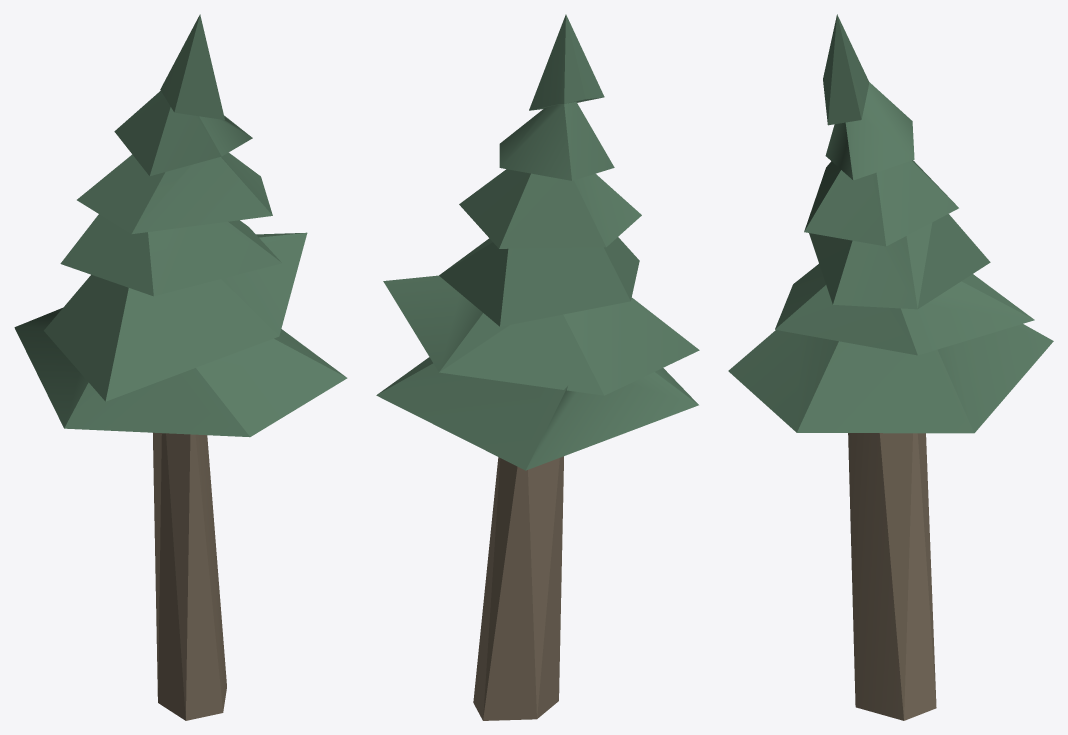
The model's file is Vegetation_Tree_Alpine_04.fbx.
3 views of the same model, side by side, from view 1: azimuth 30°, elevation 25°; view 2: azimuth 150°, elevation 25°; view 3: azimuth 270°, elevation 25° (orthographic). The views are drawn at different scales.
Parts seen in each view (by area): view 1: Vegetation_Tree_Alpine_04; view 2: Vegetation_Tree_Alpine_04; view 3: Vegetation_Tree_Alpine_04.
Part boxes in pixels (bbox=[...]): Vegetation_Tree_Alpine_04: bbox=[14, 14, 347, 720]; Vegetation_Tree_Alpine_04: bbox=[376, 14, 699, 720]; Vegetation_Tree_Alpine_04: bbox=[728, 14, 1053, 720].
Bounding box in the file's own units: 168 × 398 × 174.
